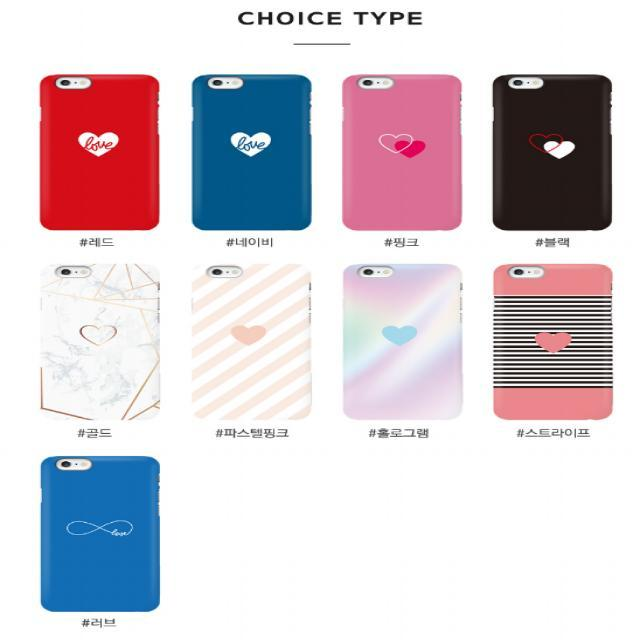phone: (340, 74, 462, 230), (492, 74, 612, 232), (40, 74, 160, 231), (192, 74, 312, 231), (40, 456, 160, 612)
